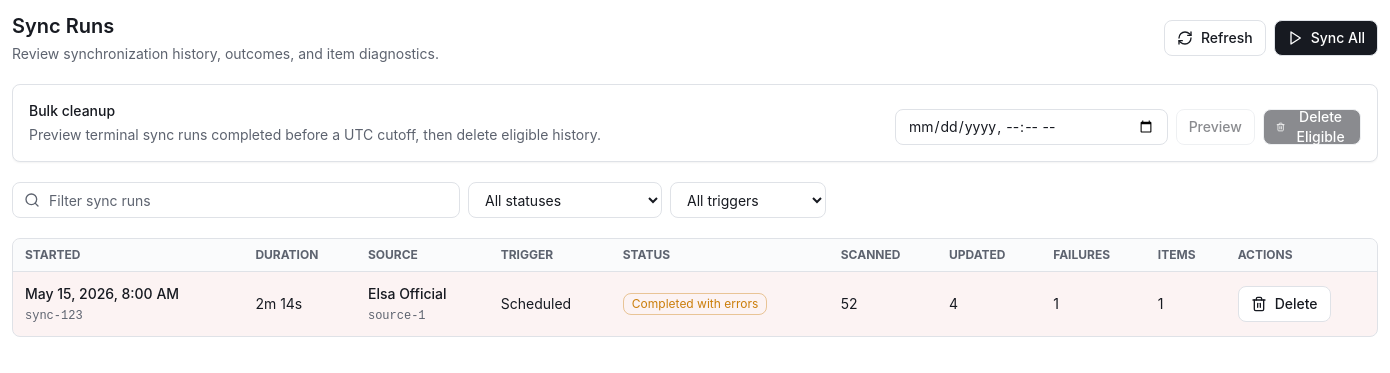
Test: SyncRunsPage › filters populated sync run rows
Type "missing-source" into the field with placeholder "Filter sync runs".
click(236, 200); type("missing-source")  # box [12,182,460,218]
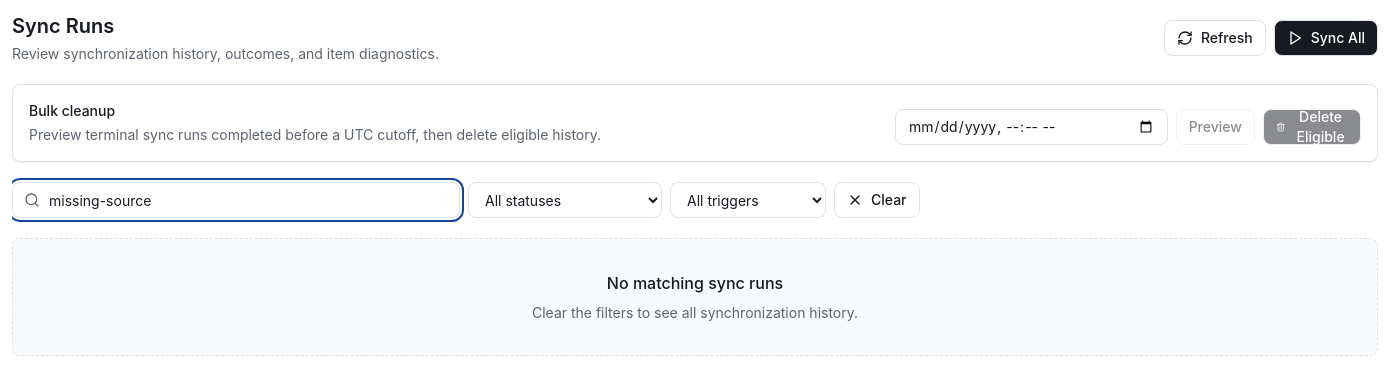
Check: the heading "No matching sync runs" is shown, box [607,273,783,293]
